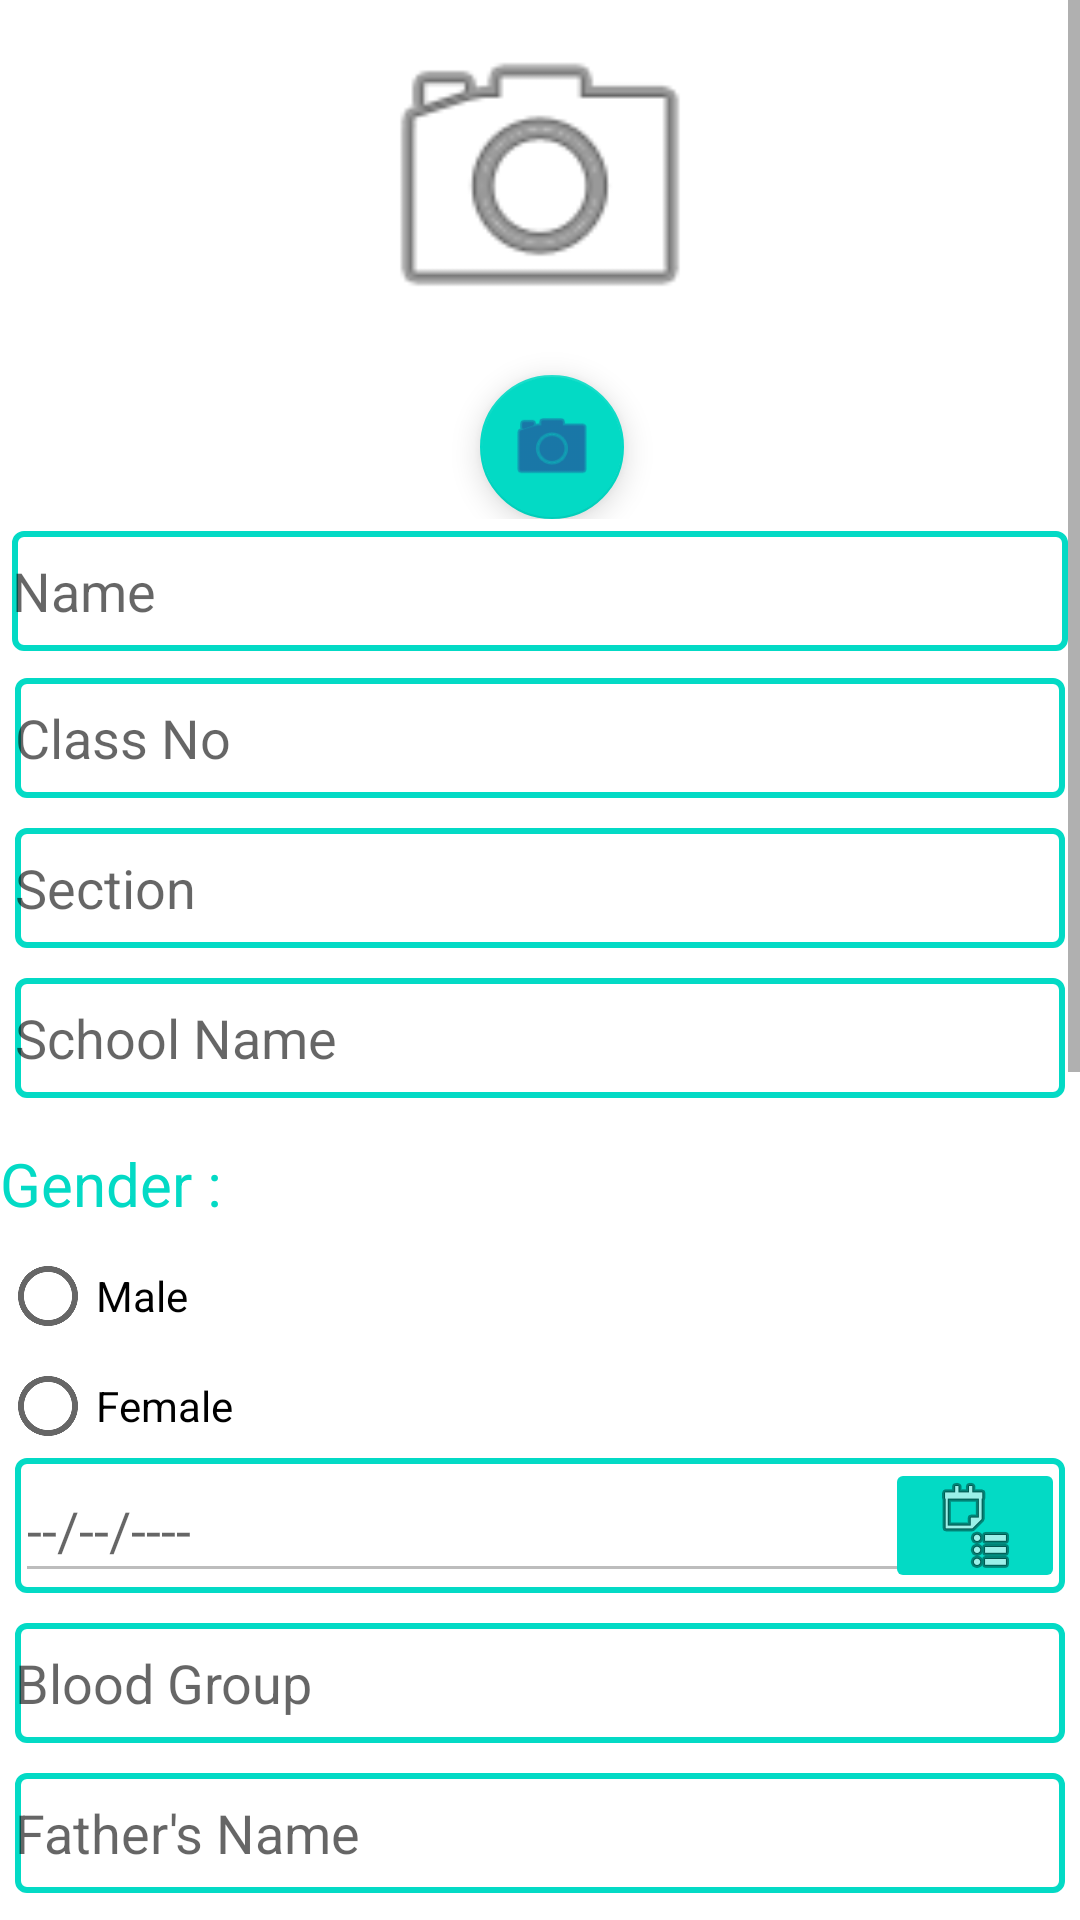

Point at icon controls on the screen. Image size 1080x1920, points as (x=x, y=y).
agenda: (x=975, y=1525)
camera: (x=540, y=174), (x=552, y=447)
